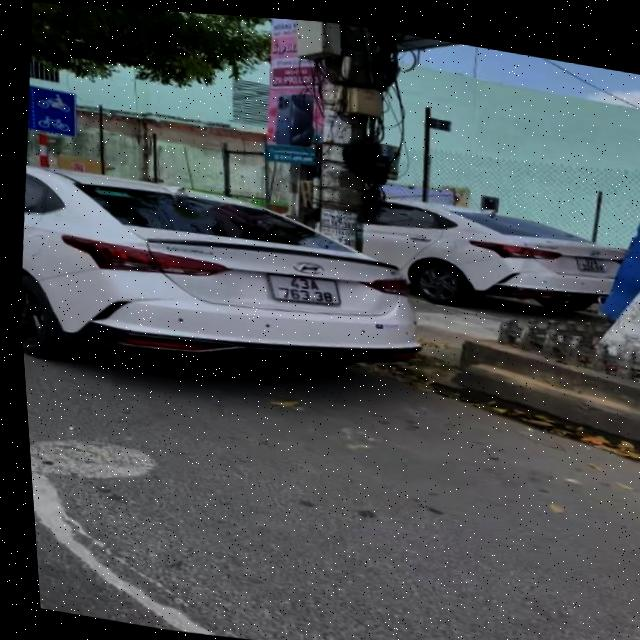car: (10, 155, 434, 413), (285, 173, 640, 341)
plate: (258, 258, 350, 318), (570, 248, 610, 278)
